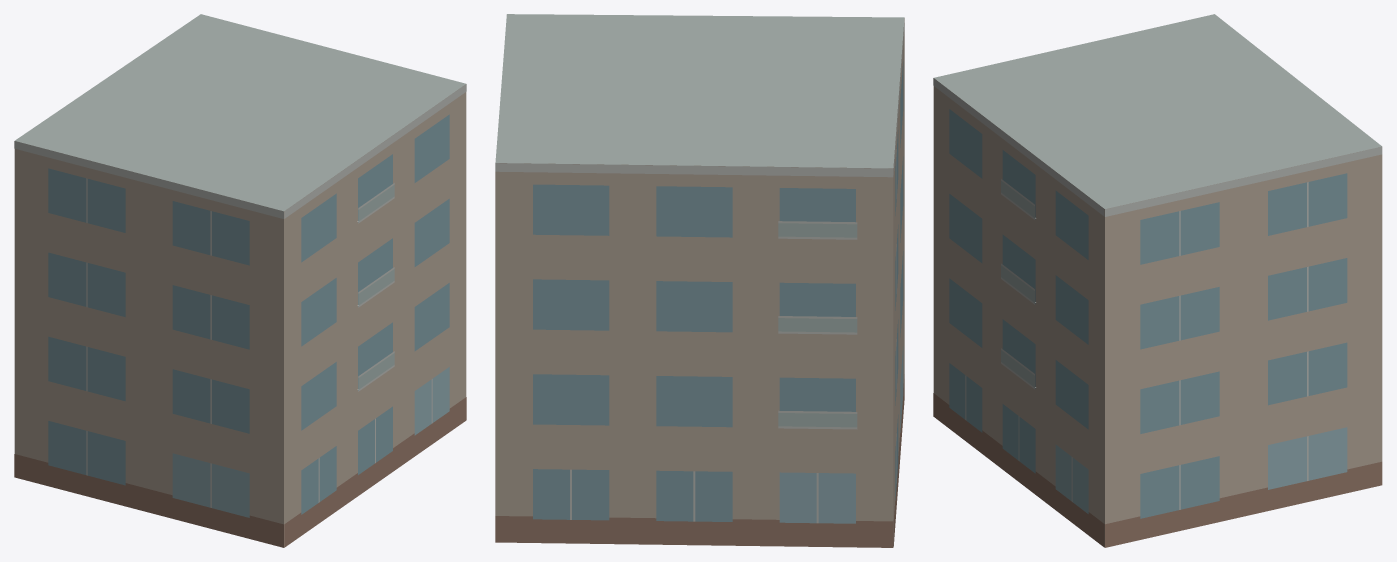
The model's file is survey-upis-32695332.glb.
The picture shows the model from 3 angles, left to right: view 1: azimuth 30°, elevation 25°; view 2: azimuth 150°, elevation 25°; view 3: azimuth 270°, elevation 25°; orthographic projection. The views are drawn at different scales.
Visible parts, largest first — view 1: survey-upis-32695332.tmp; view 2: survey-upis-32695332.tmp; view 3: survey-upis-32695332.tmp.
Part boxes in pixels (x1,y1,x2,y2): survey-upis-32695332.tmp: (14, 14, 466, 547); survey-upis-32695332.tmp: (495, 14, 904, 547); survey-upis-32695332.tmp: (933, 14, 1382, 547).
Size of the model in its own units: 12.99 by 10.5 by 12.62.
